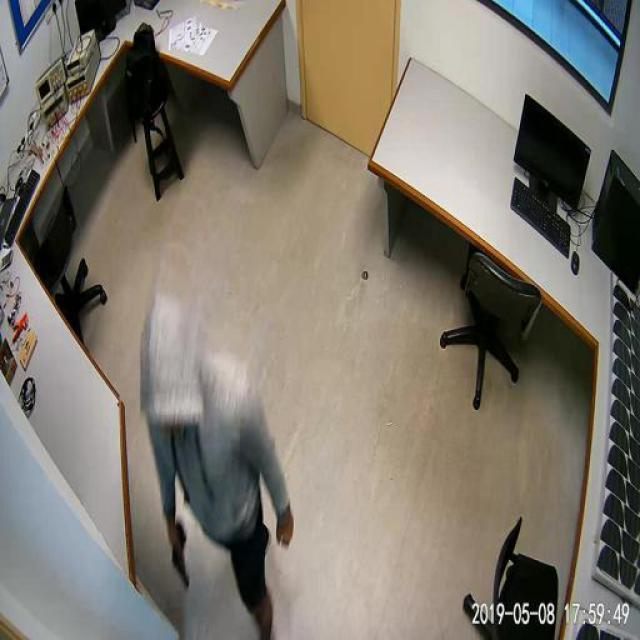weapon: (168, 523, 192, 591)
